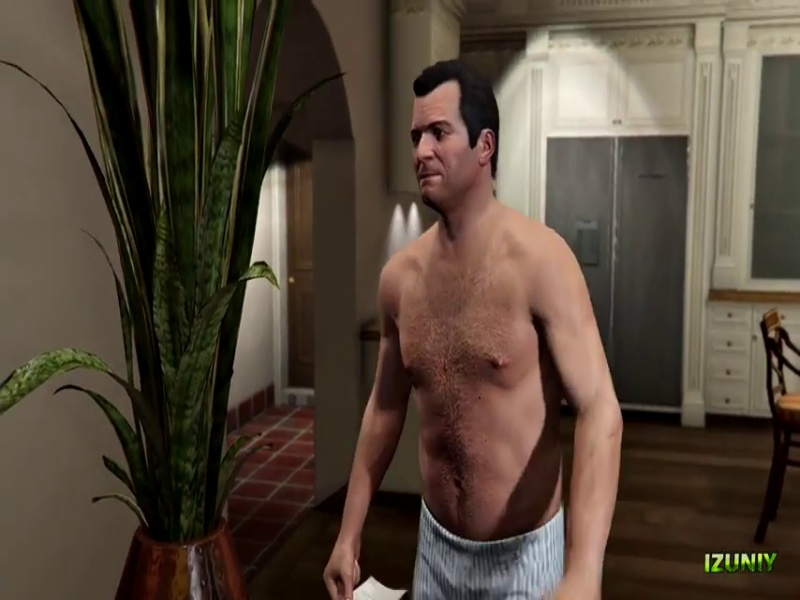human: (304, 61, 631, 593)
